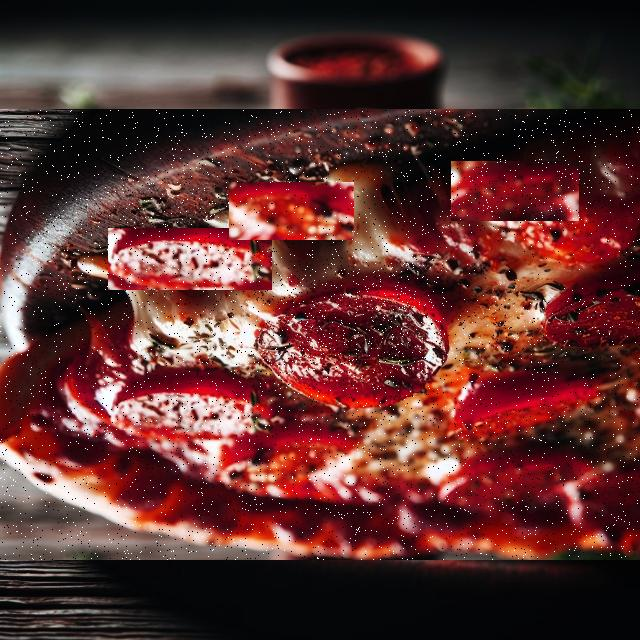Pepperoni: (279, 263, 444, 374), (108, 228, 272, 290), (447, 235, 604, 298), (451, 161, 579, 221), (230, 182, 356, 240), (548, 328, 640, 391), (591, 139, 640, 200)
Pizza: (0, 110, 640, 560)
